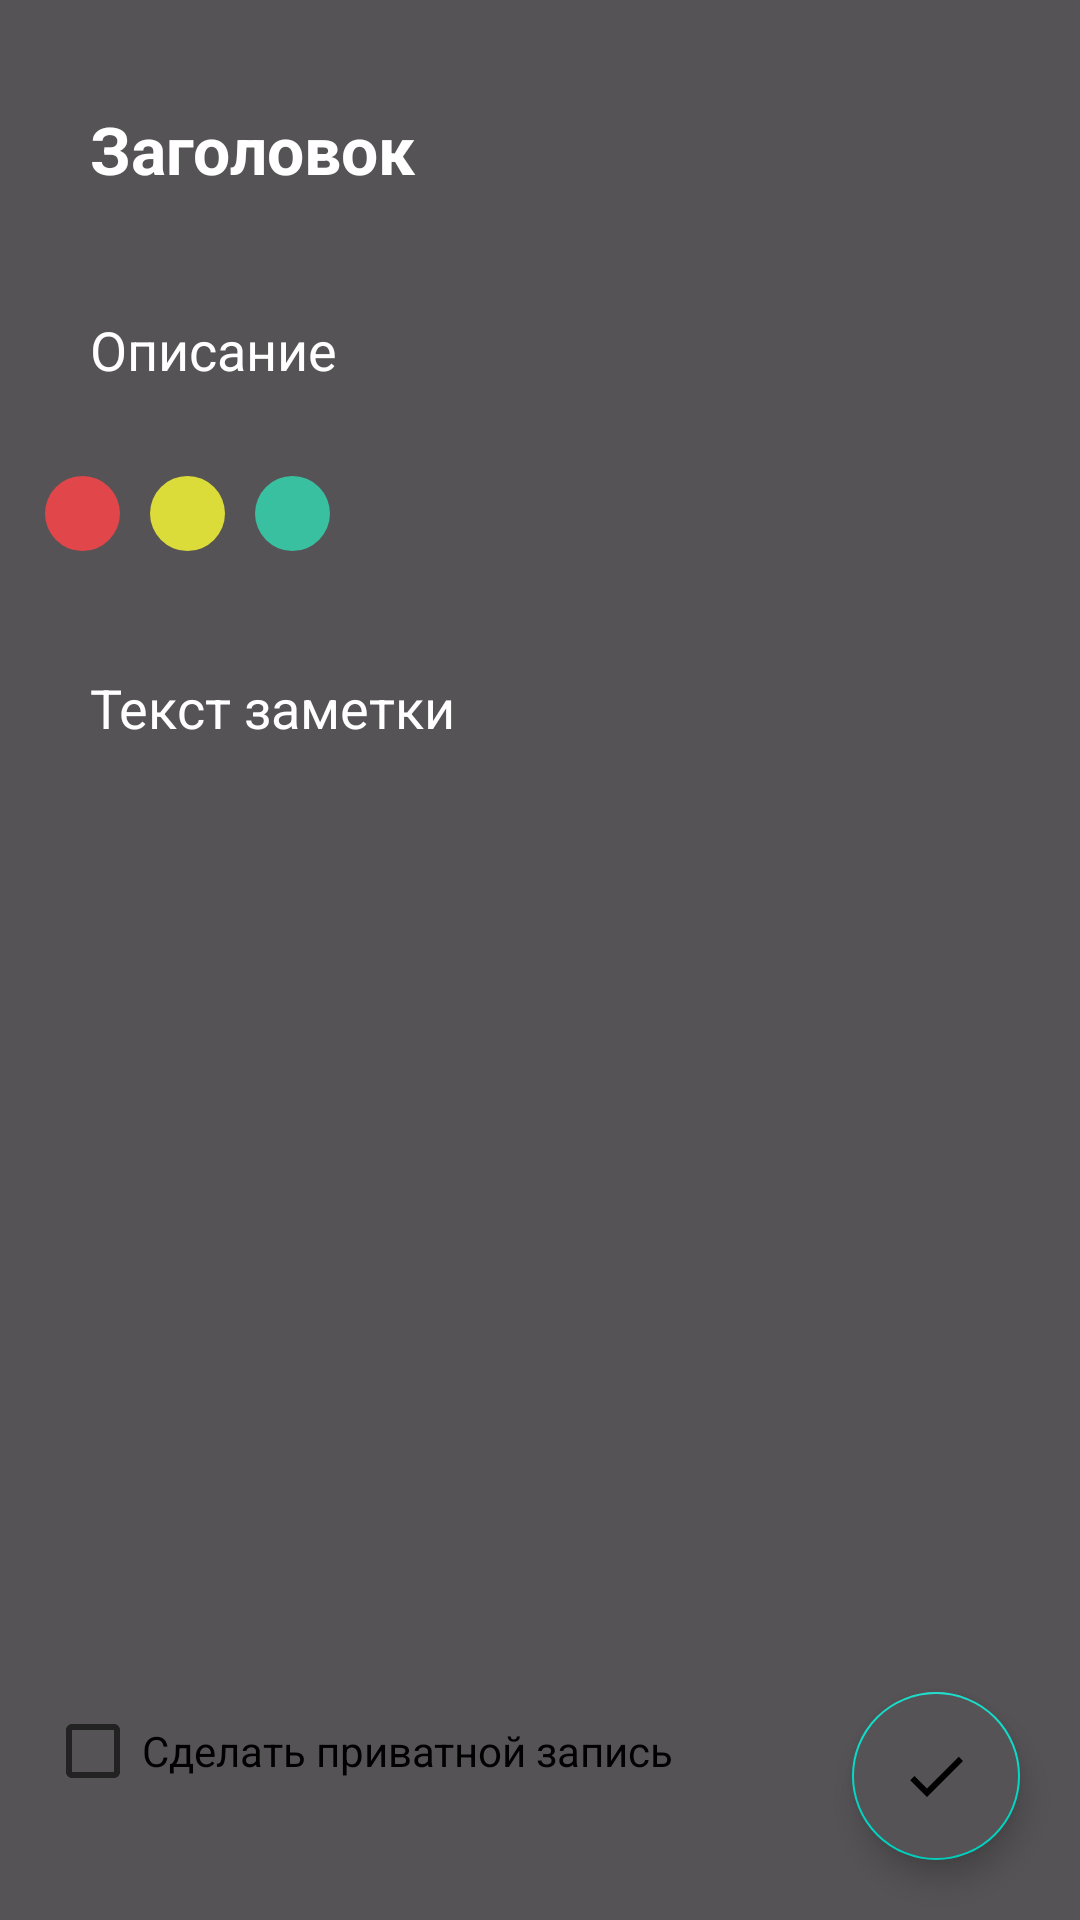

Locate icon controls on the screen. Image size 1080x1920, boxes as (x1, y1, x2, y2).
check: (852, 1692, 1020, 1860)
